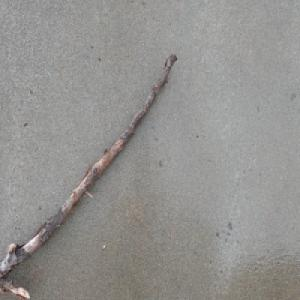Wood: (0, 51, 177, 300)
